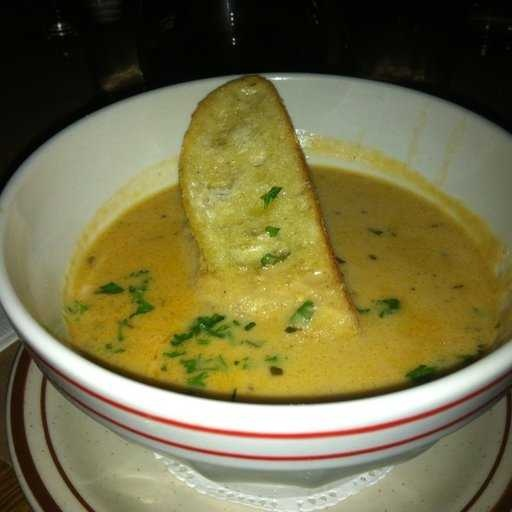soup: (50, 103, 506, 407)
